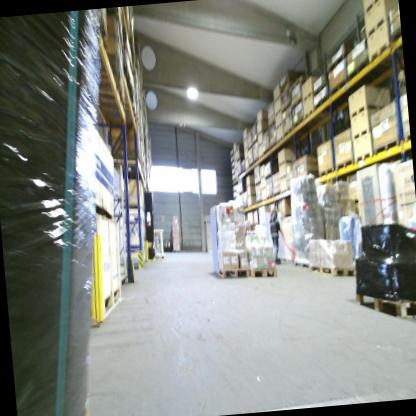pallet: (353, 283, 416, 327), (99, 72, 126, 120), (309, 260, 356, 283), (344, 57, 371, 89), (217, 263, 251, 284), (373, 139, 403, 161), (249, 262, 278, 282), (121, 67, 134, 107), (335, 155, 357, 177), (326, 78, 349, 98), (325, 53, 345, 74), (390, 21, 403, 50), (275, 254, 296, 270), (313, 94, 331, 112), (317, 166, 336, 182), (294, 258, 314, 273), (312, 84, 328, 100), (289, 76, 305, 92), (280, 77, 292, 96), (292, 117, 306, 132), (130, 102, 138, 124), (292, 98, 303, 113), (281, 102, 292, 116), (284, 127, 295, 140), (403, 130, 411, 147), (172, 247, 183, 255), (263, 147, 270, 157), (270, 142, 277, 152), (252, 139, 258, 149), (273, 192, 281, 199), (253, 157, 259, 165), (249, 162, 255, 170), (247, 144, 253, 152), (267, 195, 274, 201)
pallet_truck: (277, 223, 298, 266)
